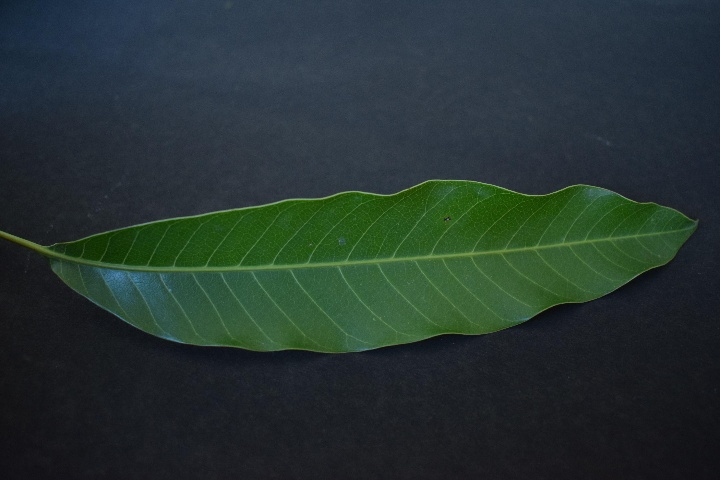healthy: (57, 183, 671, 354)
